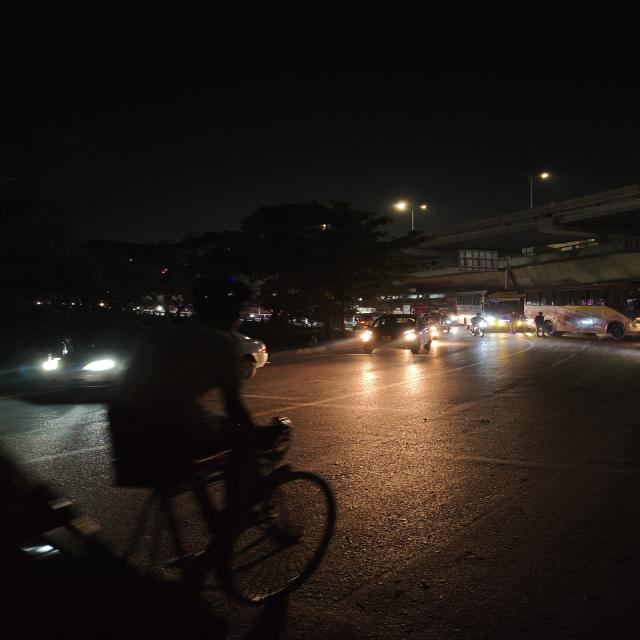bus: (526, 277, 640, 346), (477, 290, 529, 334)
car: (356, 313, 439, 361)
motorcycle: (467, 312, 487, 338), (436, 309, 456, 335)
pedestrian: (535, 311, 546, 338), (507, 310, 519, 334)
